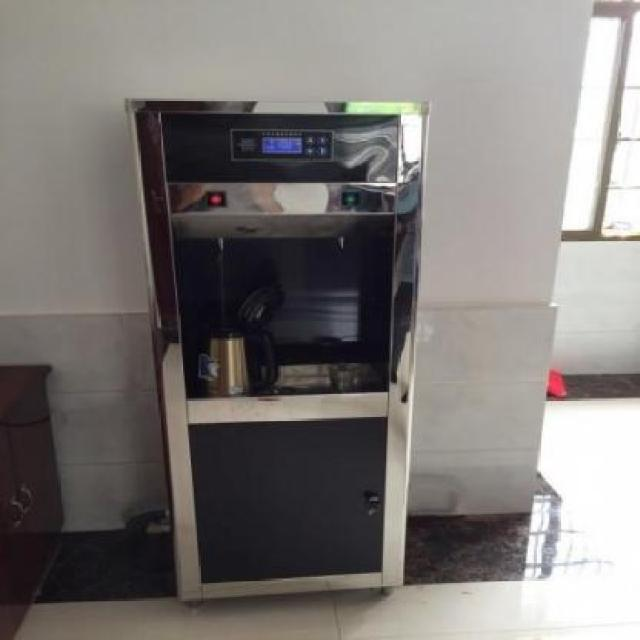cooler: (123, 94, 432, 611)
